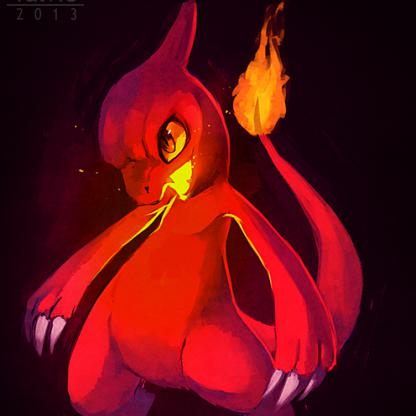Charmeleon: (5, 1, 416, 416)
